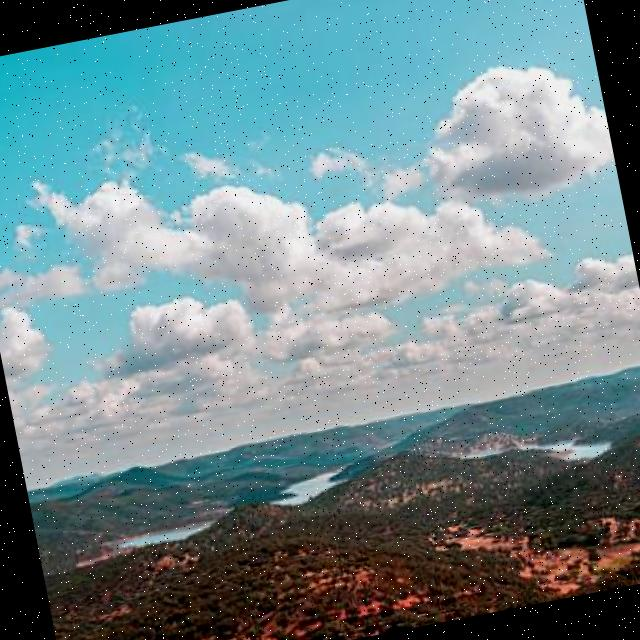Ac: (1, 17, 640, 466)
